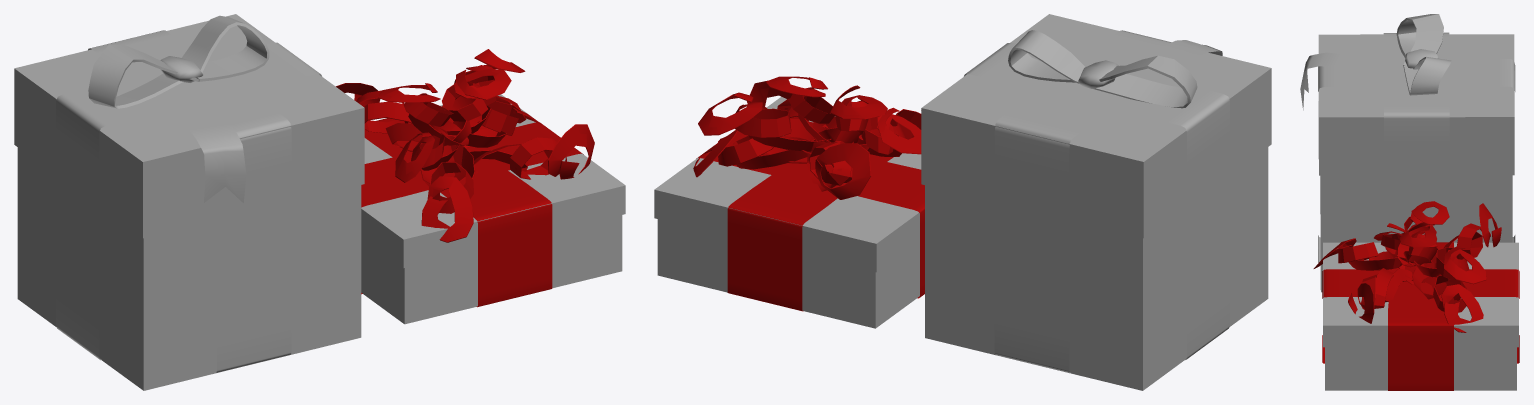
File: presents.fbx
3 views of the same model, side by side, from view 1: azimuth 30°, elevation 25°; view 2: azimuth 150°, elevation 25°; view 3: azimuth 270°, elevation 25° (orthographic). The views are drawn at different scales.
Visible parts, largest first — view 1: polySurface181, polySurface179; view 2: polySurface181, polySurface179; view 3: polySurface181, polySurface179.
Boxes of the visible parts, x1,y1,x2,y2 form: polySurface181: [14, 14, 364, 390]; polySurface179: [336, 49, 625, 324]; polySurface181: [921, 14, 1271, 390]; polySurface179: [654, 76, 924, 328]; polySurface181: [1300, 14, 1515, 292]; polySurface179: [1313, 201, 1519, 390].
Size of the model in its own units: 2.25 by 1.23 by 1.14.
